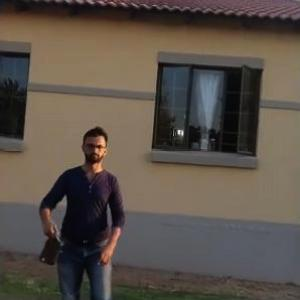follow: (33, 118, 130, 299)
